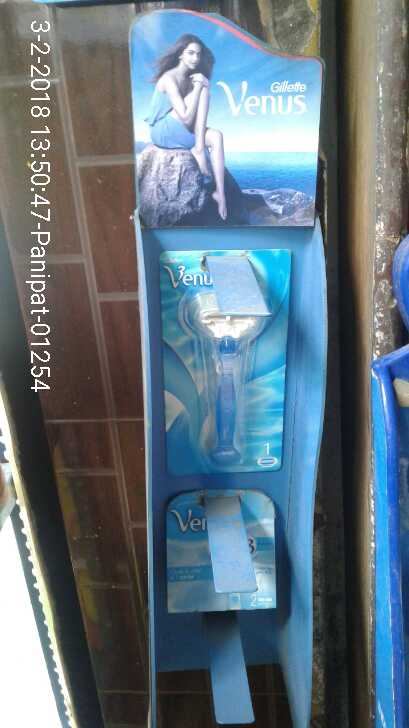venus: (160, 249, 282, 470), (164, 494, 281, 614)
